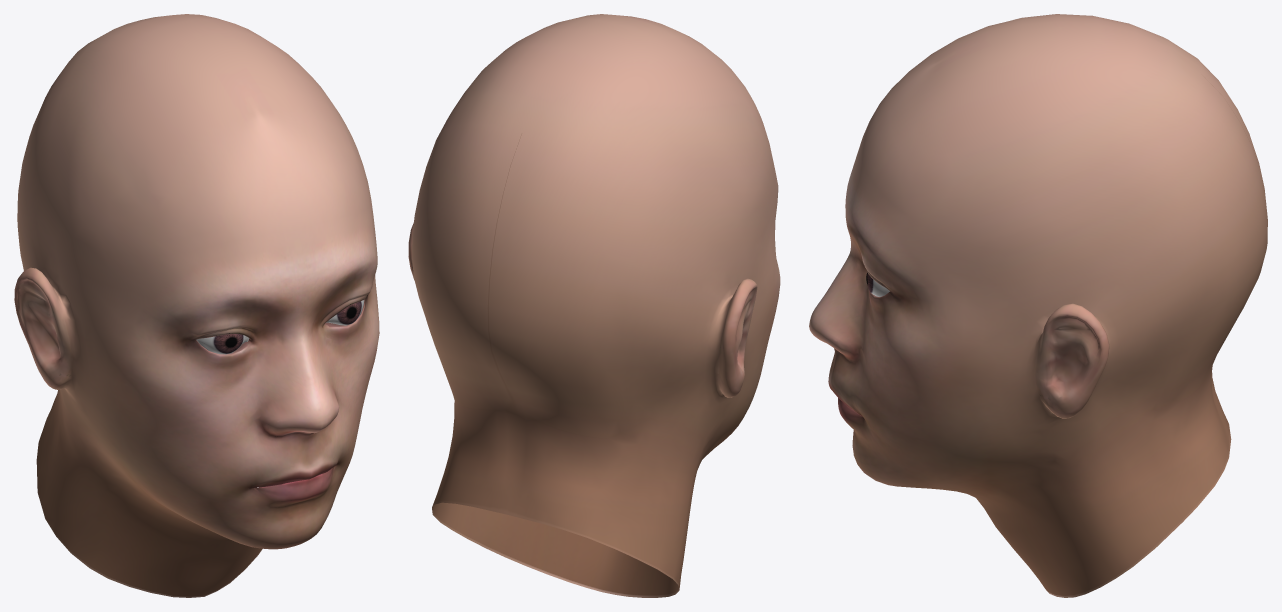
File: vision.glb
3 renders of one model, left to right at view 1: azimuth 30°, elevation 25°; view 2: azimuth 150°, elevation 25°; view 3: azimuth 270°, elevation 25°, orthographic.
Parts seen in each view (by area): view 1: Object_2, Object_3; view 2: Object_2; view 3: Object_2.
Part boxes in pixels (x1=…): Object_2: x1=14, y1=14, x2=379, y2=597; Object_3: x1=196, y1=300, x2=364, y2=354; Object_2: x1=408, y1=14, x2=780, y2=597; Object_2: x1=809, y1=14, x2=1267, y2=597.
Bounding box in the file's own units: 0.0363 × 0.0593 × 0.0443.
2 materials, 2 textured.
